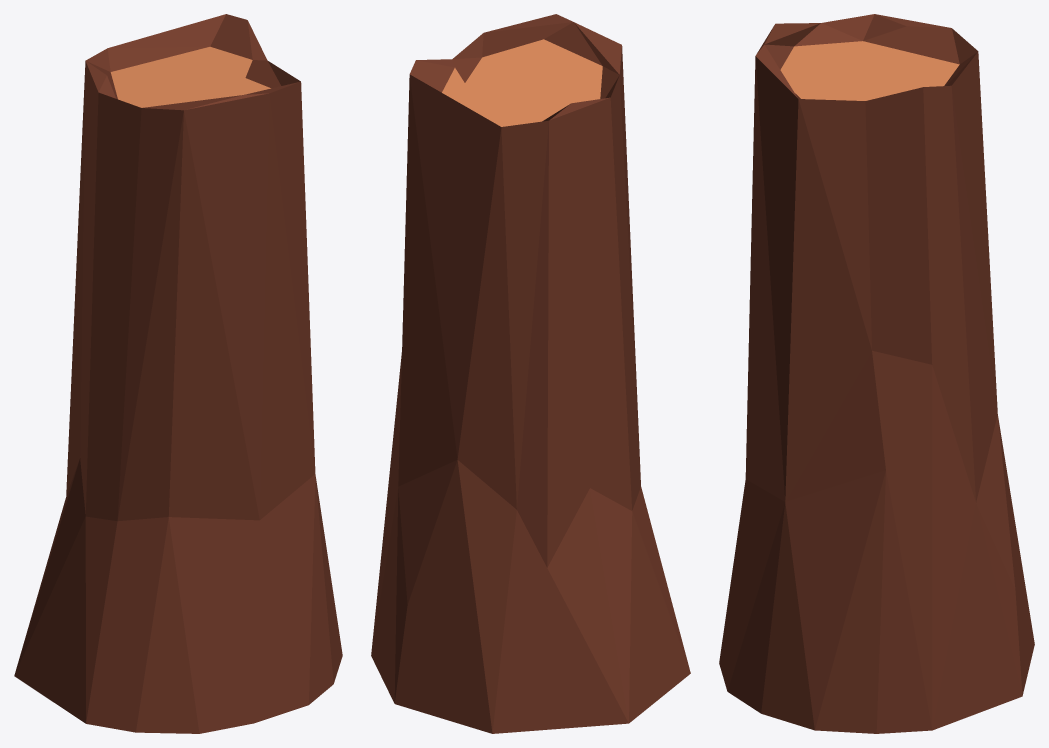
Rendered from pine_trunk_type_7_LOD1.fbx.
3 views of the same model, side by side, from view 1: azimuth 30°, elevation 25°; view 2: azimuth 150°, elevation 25°; view 3: azimuth 270°, elevation 25° (orthographic). The views are drawn at different scales.
Parts seen in each view (by area): view 1: pt_type_7; view 2: pt_type_7; view 3: pt_type_7.
Boxes of the visible parts, left/top/right/bottom form: pt_type_7: left=14, top=14, right=342, bottom=733; pt_type_7: left=371, top=14, right=690, bottom=733; pt_type_7: left=719, top=14, right=1034, bottom=733.
Bounding box in the file's own units: 197 × 422 × 193.
